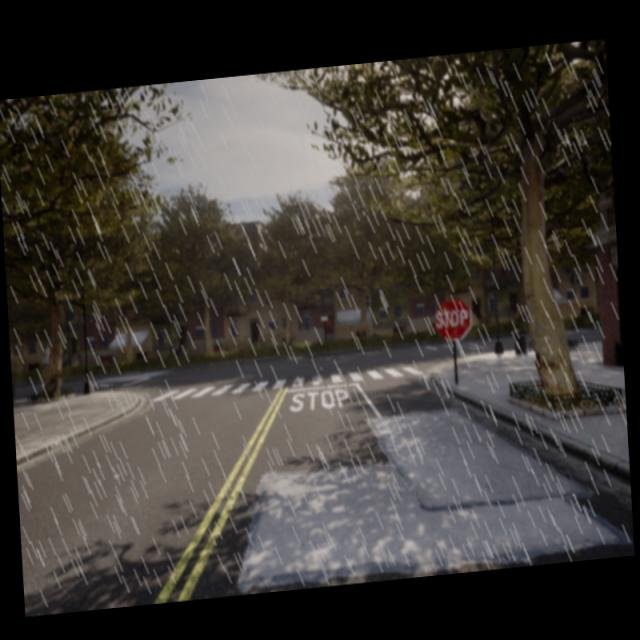stop sign: (432, 294, 473, 342)
